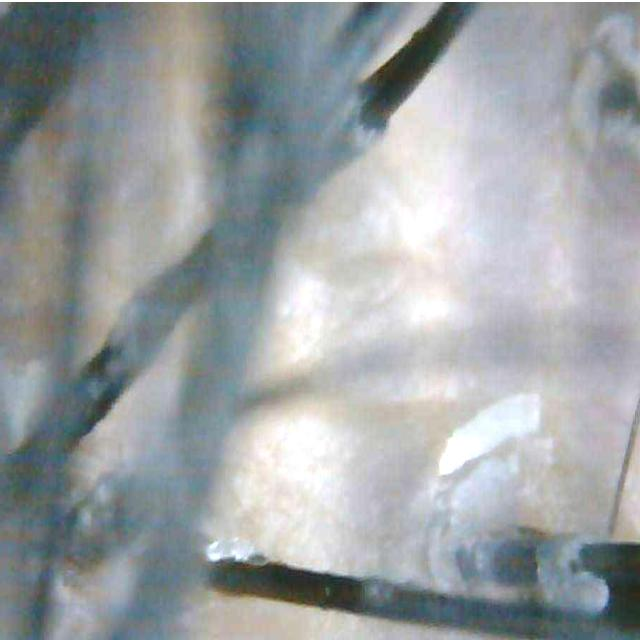d: (439, 393, 541, 474)
